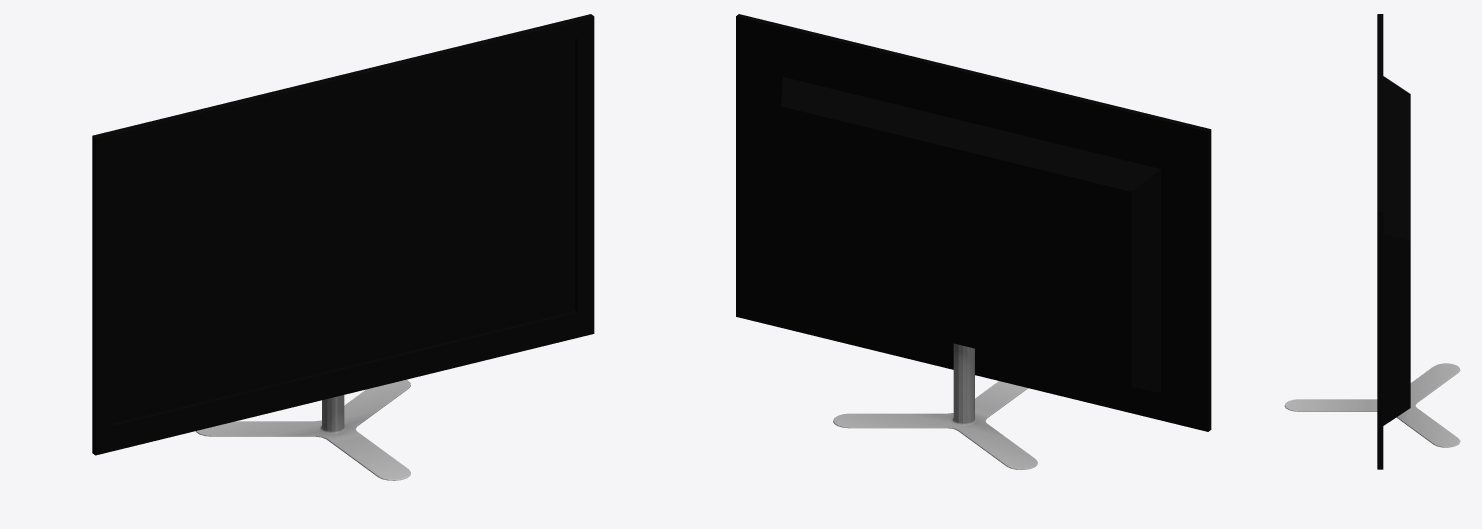
3 views of the same model, side by side, from view 1: azimuth 30°, elevation 25°; view 2: azimuth 150°, elevation 25°; view 3: azimuth 270°, elevation 25° (orthographic). The views are drawn at different scales.
Parts seen in each view (by area): view 1: Plane.002; view 2: Plane.002; view 3: Plane.002.
Part boxes in pixels (bbox=[...]): Plane.002: bbox=[92, 14, 594, 480]; Plane.002: bbox=[736, 14, 1211, 469]; Plane.002: bbox=[1284, 14, 1460, 469].
Size of the model in its own units: 3.8 by 2.38 by 1.4.
2 materials, 2 textured.
